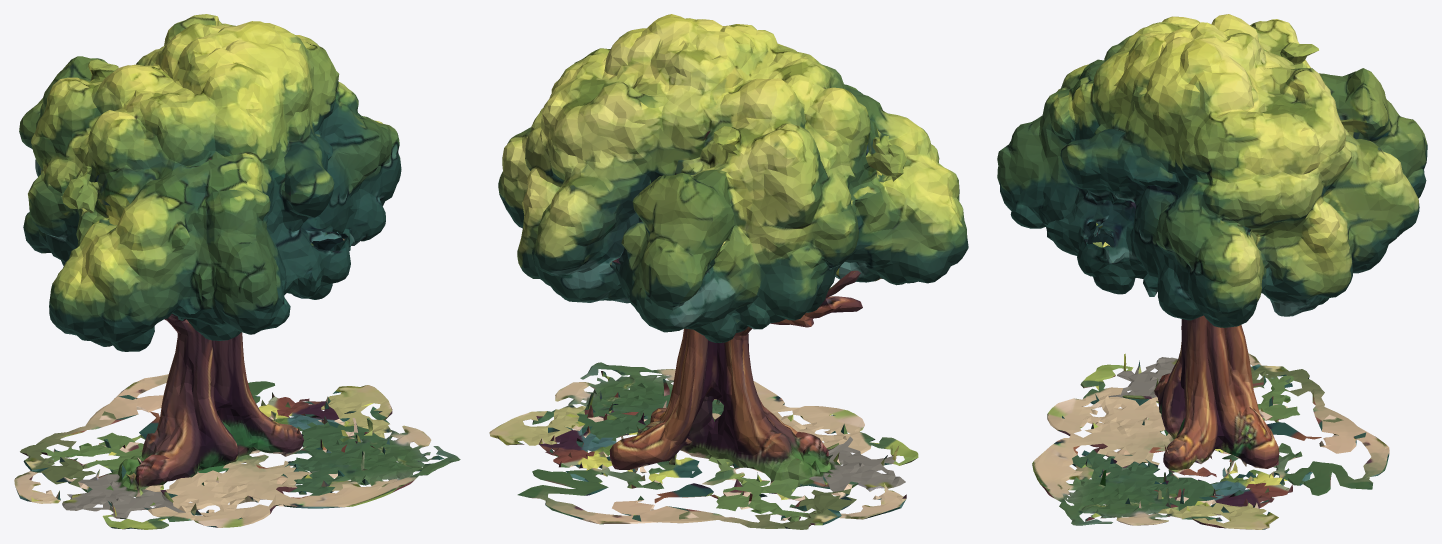
The picture shows the model from 3 angles, left to right: view 1: azimuth 30°, elevation 25°; view 2: azimuth 150°, elevation 25°; view 3: azimuth 270°, elevation 25°; orthographic projection. The views are drawn at different scales.
Parts seen in each view (by area): view 1: tmp3ejlehai.ply; view 2: tmp3ejlehai.ply; view 3: tmp3ejlehai.ply.
Boxes of the visible parts, x1=… form: tmp3ejlehai.ply: x1=14, y1=14, x2=460, y2=529; tmp3ejlehai.ply: x1=489, y1=14, x2=968, y2=529; tmp3ejlehai.ply: x1=997, y1=14, x2=1427, y2=529.
Size of the model in its own units: 0.9785 by 0.9982 by 0.9338.
Materials: 1 (1 with a texture image).
